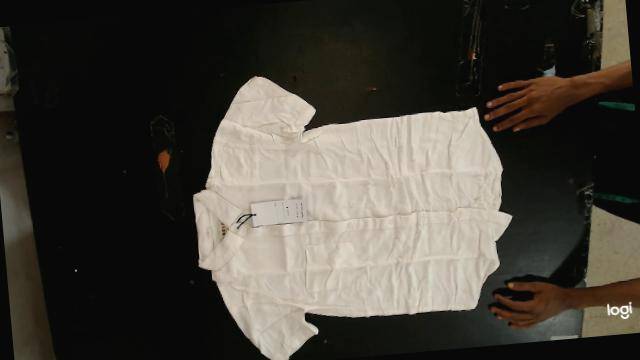new-garment: (194, 77, 512, 360)
